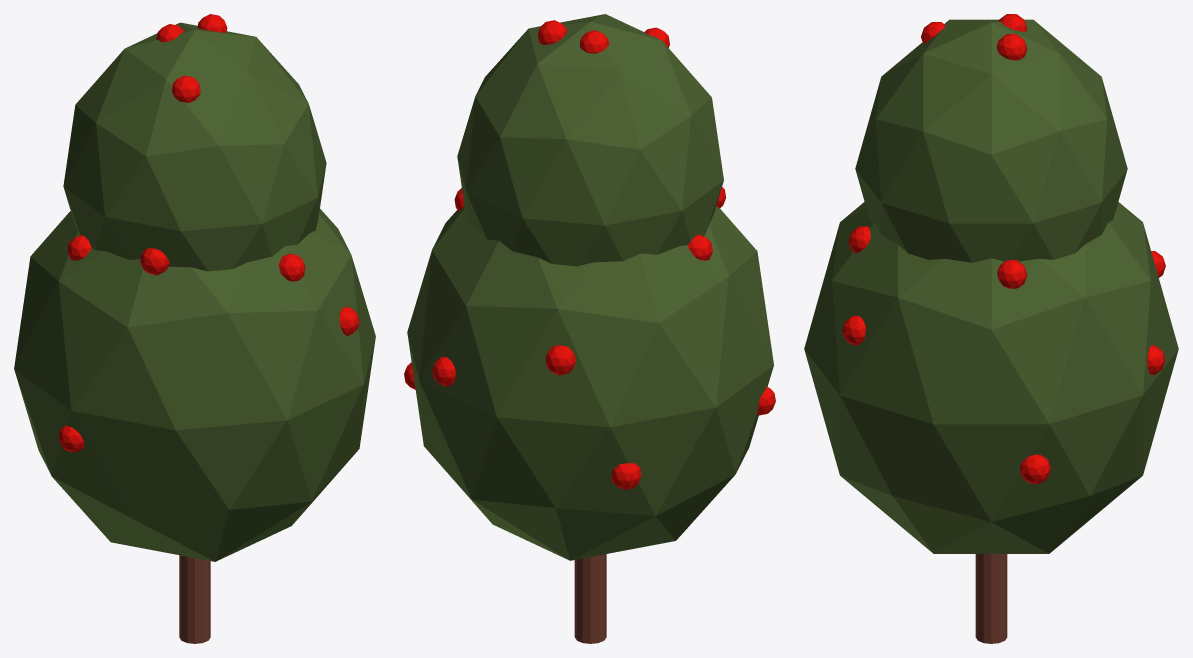
Rendered from PLATINHA2.fbx.
3 views of the same model, side by side, from view 1: azimuth 30°, elevation 25°; view 2: azimuth 150°, elevation 25°; view 3: azimuth 270°, elevation 25° (orthographic).
Visible parts, largest first — view 1: Icosphere.010; view 2: Icosphere.010; view 3: Icosphere.010.
Part boxes in pixels (bbox=[...]): Icosphere.010: bbox=[14, 14, 375, 643]; Icosphere.010: bbox=[404, 14, 775, 643]; Icosphere.010: bbox=[804, 14, 1178, 643].
Bounding box in the file's own units: 104 × 191 × 105.
